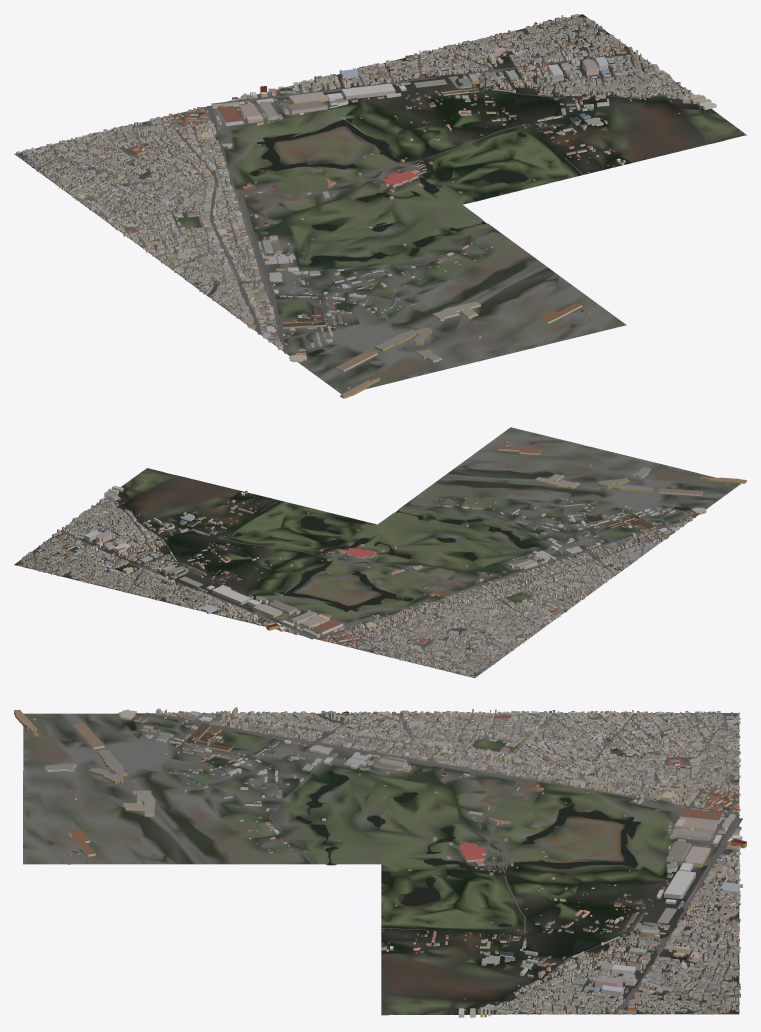
3 renders of one model, top to bottom at view 1: azimuth 30°, elevation 25°; view 2: azimuth 150°, elevation 25°; view 3: azimuth 270°, elevation 25°, orthographic. The views are drawn at different scales.
Parts seen in each view (by area): view 1: ground, buildings, roads, water; view 2: ground, buildings, water, roads; view 3: ground, buildings, roads, water.
Boxes of the visible parts, x1,y1,x2,y2 form: ground: (14, 14, 746, 394); buildings: (16, 14, 716, 398); roads: (35, 17, 684, 353); water: (250, 96, 554, 355); ground: (14, 427, 740, 678); buildings: (17, 441, 746, 677); water: (168, 507, 688, 611); roads: (21, 500, 695, 666); ground: (23, 713, 739, 1015); buildings: (14, 707, 746, 1017); roads: (145, 712, 742, 1014); water: (126, 722, 640, 955).
Size of the model in its own units: 2850 by 41.64 by 2866.
